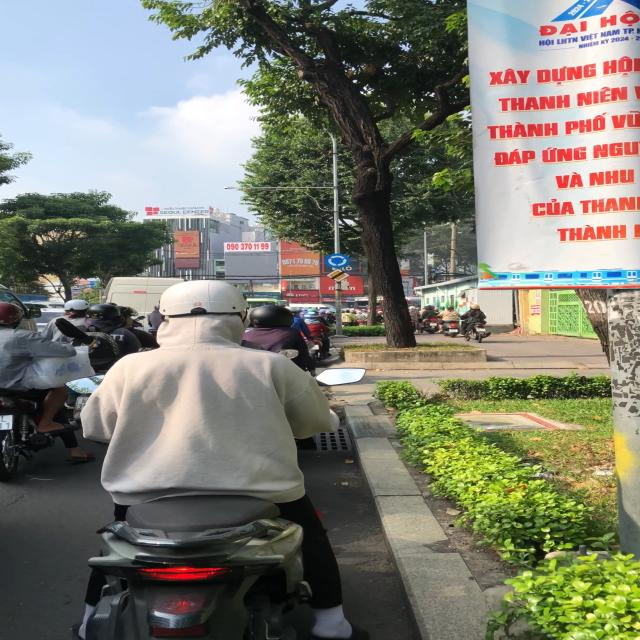Bien bao noi giao nhau chay theo vong xuyen: (322, 252, 351, 270)
